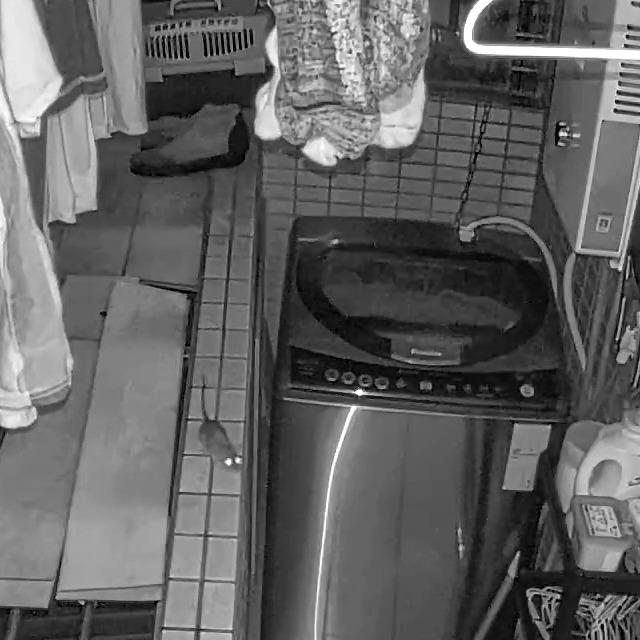rat: (197, 376, 246, 478)
